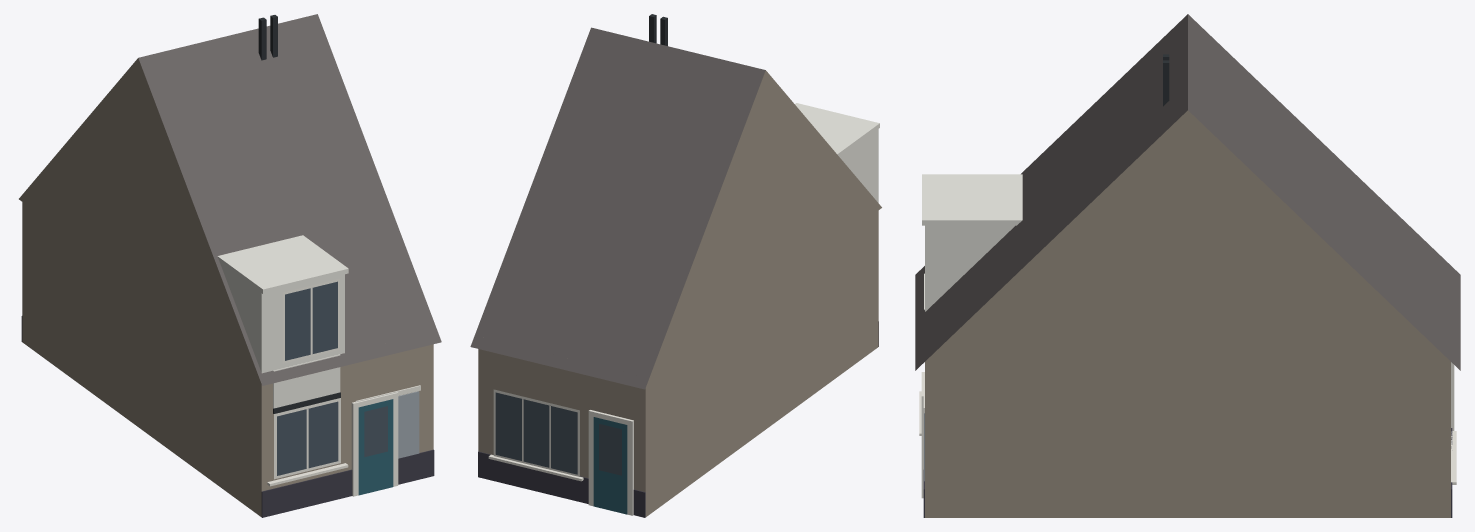
Rendered from nw-ee-box-front__box__2__gable__long__solid__mirror.glb.
The picture shows the model from 3 angles, left to right: view 1: azimuth 30°, elevation 25°; view 2: azimuth 150°, elevation 25°; view 3: azimuth 270°, elevation 25°; orthographic projection. The views are drawn at different scales.
Visible parts, largest first — view 1: nw-ee-box-front__box__2__gable__long__solid__mirror; view 2: nw-ee-box-front__box__2__gable__long__solid__mirror; view 3: nw-ee-box-front__box__2__gable__long__solid__mirror.
Part boxes in pixels (x1,y1,x2,y2): nw-ee-box-front__box__2__gable__long__solid__mirror: (19, 14, 441, 517); nw-ee-box-front__box__2__gable__long__solid__mirror: (470, 14, 881, 517); nw-ee-box-front__box__2__gable__long__solid__mirror: (915, 14, 1460, 517).
Bounding box in the file's own units: 4.69 × 9.77 × 11.24.
